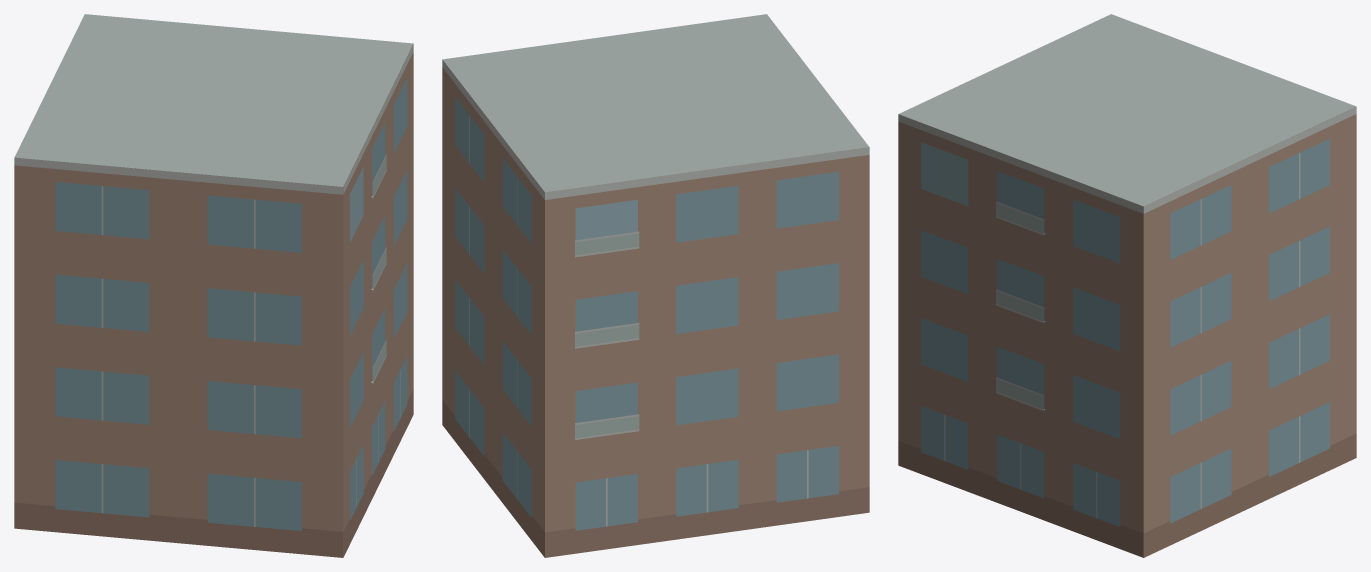
File: survey-upis-32692831.glb
3 views of the same model, side by side, from view 1: azimuth 30°, elevation 25°; view 2: azimuth 150°, elevation 25°; view 3: azimuth 270°, elevation 25° (orthographic). The views are drawn at different scales.
Visible parts, largest first — view 1: survey-upis-32692831.tmp; view 2: survey-upis-32692831.tmp; view 3: survey-upis-32692831.tmp.
Part boxes in pixels (<box>): survey-upis-32692831.tmp: <box>14,14,413,557</box>; survey-upis-32692831.tmp: <box>442,14,869,557</box>; survey-upis-32692831.tmp: <box>898,14,1356,557</box>.
Size of the model in its own units: 13.64 by 11.6 by 13.72.
